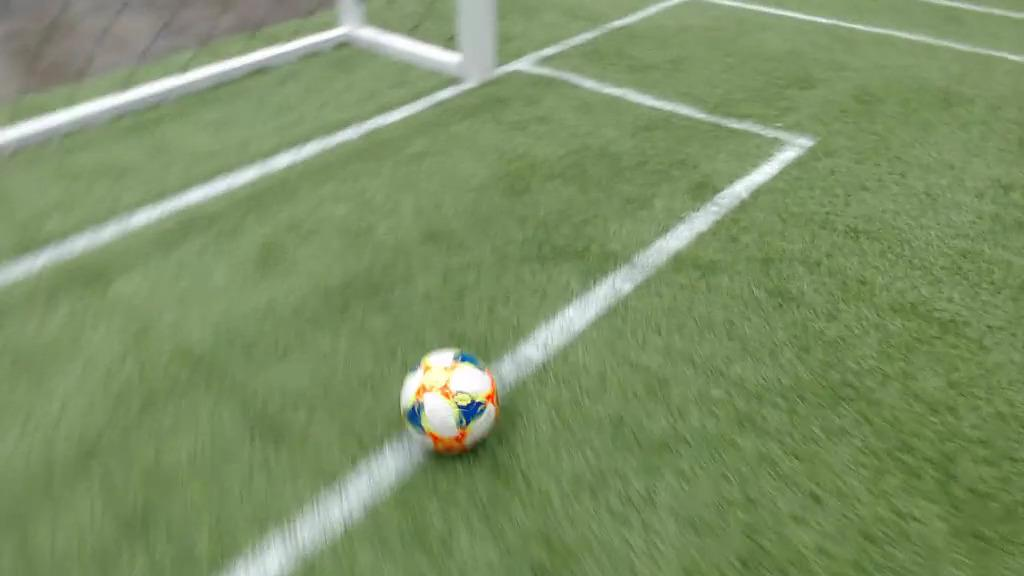ball: (377, 332, 522, 468)
